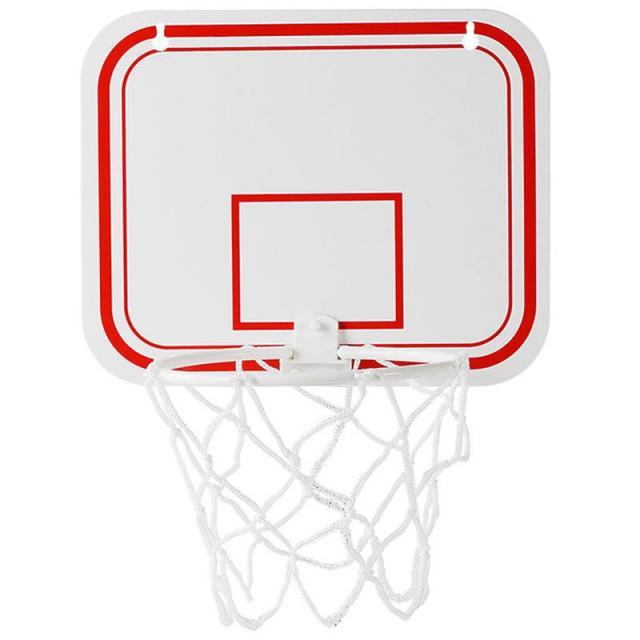hoop: (143, 345, 472, 630)
